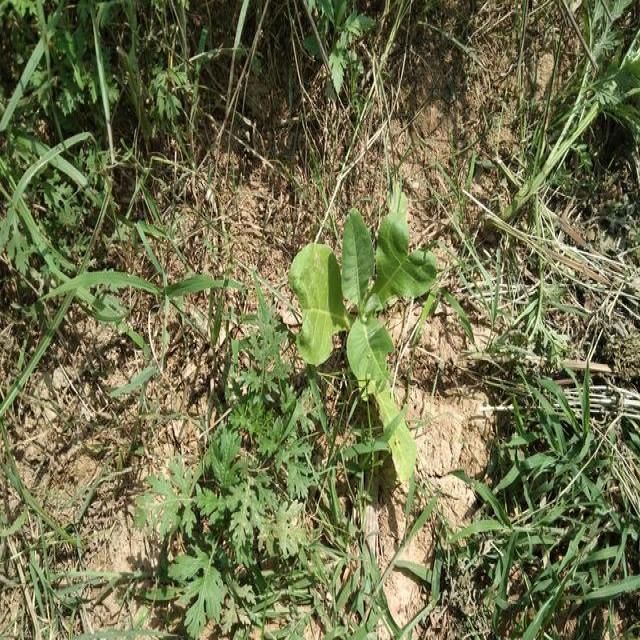crop: (290, 225, 438, 482)
